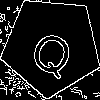Q: (26, 21, 80, 81)
